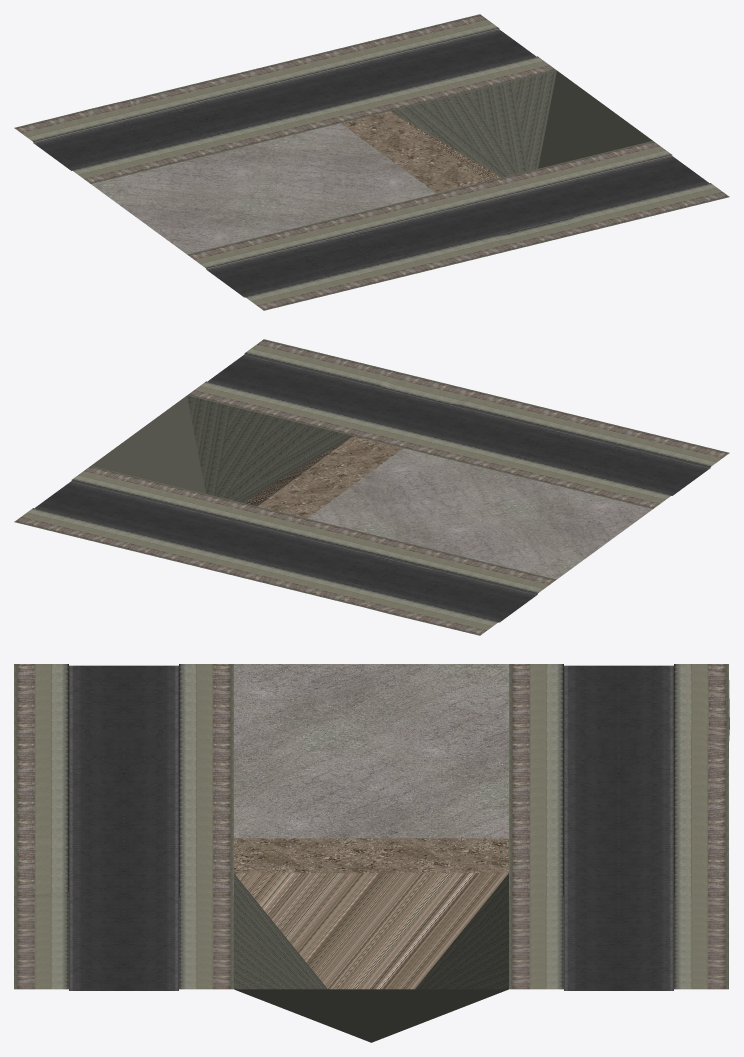
The model's file is cuntsrod13.obj.
3 views of the same model, one above another, from view 1: azimuth 30°, elevation 25°; view 2: azimuth 150°, elevation 25°; view 3: azimuth 270°, elevation 25° (orthographic). The views are drawn at different scales.
Parts seen in each view (by area): view 1: cuntsrod13; view 2: cuntsrod13; view 3: cuntsrod13.
Part boxes in pixels (bbox=[...]): cuntsrod13: bbox=[14, 14, 729, 310]; cuntsrod13: bbox=[14, 339, 729, 635]; cuntsrod13: bbox=[14, 664, 729, 1042].
Size of the model in its own units: 70 by 10.41 by 65.1.
4 materials, 4 textured.
